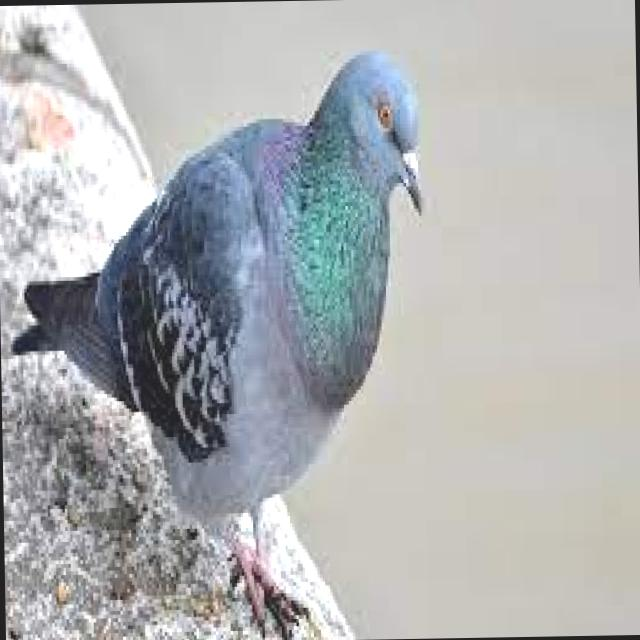bird: (2, 42, 440, 640)
